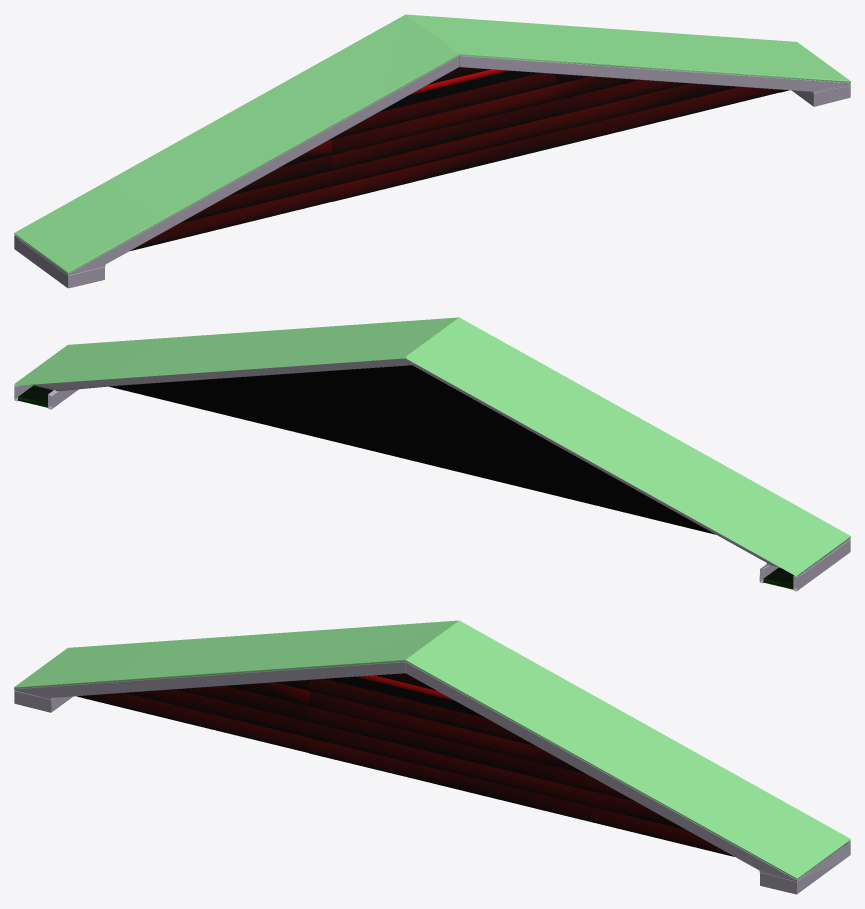
Rendered from SM_House_Roof_B_End.fbx.
The picture shows the model from 3 angles, top to bottom: view 1: azimuth 30°, elevation 25°; view 2: azimuth 150°, elevation 25°; view 3: azimuth 330°, elevation 25°; orthographic projection.
Parts seen in each view (by area): view 1: SM_House_Roof_B_End; view 2: SM_House_Roof_B_End; view 3: SM_House_Roof_B_End.
Part boxes in pixels (x1,y1,x2,y2): SM_House_Roof_B_End: (14,14,850,288); SM_House_Roof_B_End: (14,317,850,591); SM_House_Roof_B_End: (14,620,850,894).
Bounding box in the file's own units: 1051 × 125 × 179.
